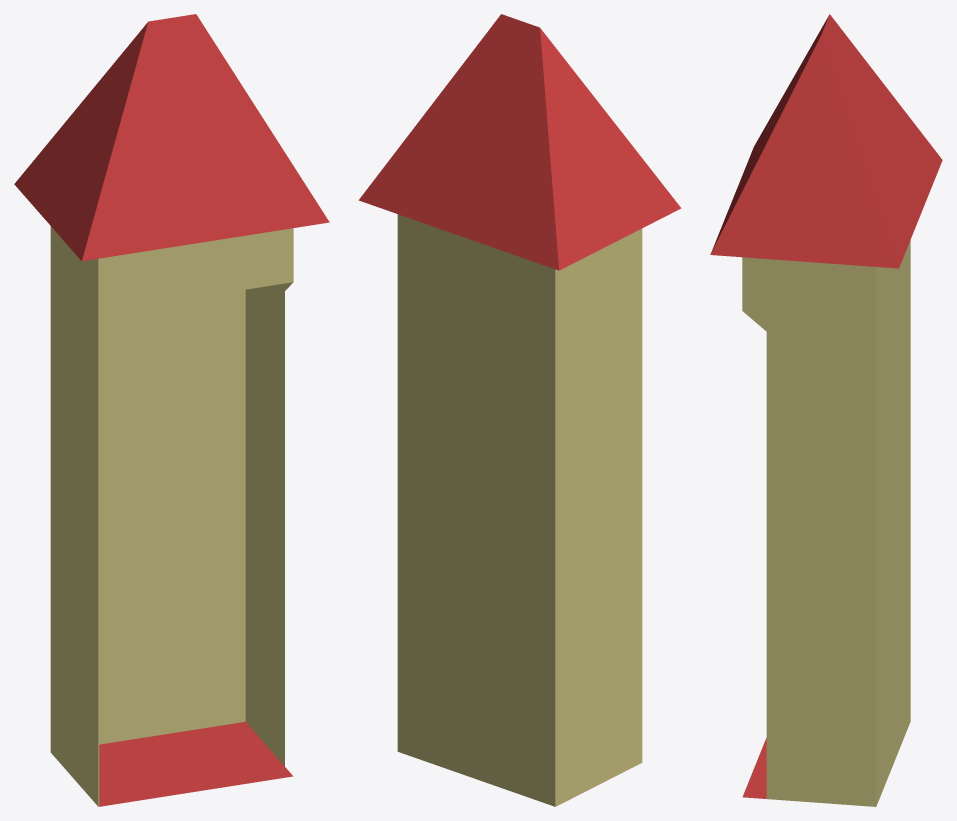
The picture shows the model from 3 angles, left to right: view 1: azimuth 30°, elevation 25°; view 2: azimuth 150°, elevation 25°; view 3: azimuth 270°, elevation 25°; orthographic projection.
Parts seen in each view (by area): view 1: group_5, group_3, group_6, group_4; view 2: group_5, group_3, group_4; view 3: group_5, group_3, group_4, group_6.
Boxes of the visible parts, x1=… form: group_5: x1=50, y1=226, x2=293, y2=806; group_3: x1=14, y1=14, x2=329, y2=261; group_6: x1=99, y1=721, x2=293, y2=806; group_4: x1=14, y1=168, x2=247, y2=260; group_5: x1=397, y1=214, x2=642, y2=806; group_3: x1=359, y1=14, x2=679, y2=270; group_4: x1=359, y1=147, x2=680, y2=269; group_5: x1=742, y1=240, x2=910, y2=806; group_3: x1=710, y1=14, x2=942, y2=268; group_4: x1=713, y1=109, x2=898, y2=268; group_6: x1=742, y1=738, x2=766, y2=798.
Bounding box in the file's own units: 7.78 × 6.26 × 21.86.
